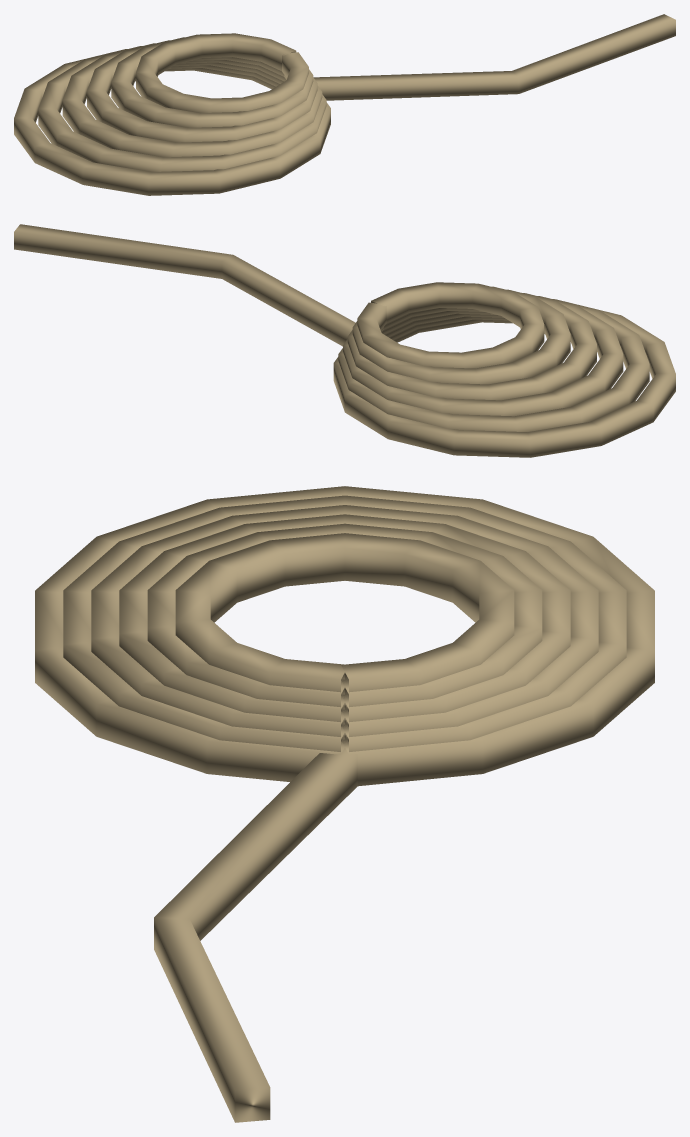
The model's file is LineCoilMIA.fbx.
3 renders of one model, top to bottom at view 1: azimuth 30°, elevation 25°; view 2: azimuth 150°, elevation 25°; view 3: azimuth 270°, elevation 25°, orthographic. The views are drawn at different scales.
Parts seen in each view (by area): view 1: LineCoilMIA; view 2: LineCoilMIA; view 3: LineCoilMIA.
Part boxes in pixels (box(x1,y1,x2,y2)): LineCoilMIA: box(14, 14, 675, 195); LineCoilMIA: box(14, 224, 675, 457); LineCoilMIA: box(35, 486, 654, 1122).
Size of the model in its own units: 1.23 by 0.0961 by 0.5373.
